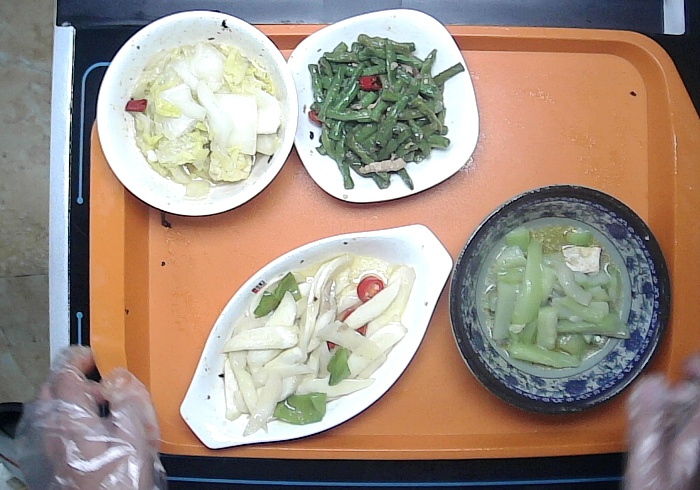ZNLD-Qing_Hua_Wan: (441, 173, 677, 420)
ZNLD-Si_Fang_Wan: (280, 1, 494, 221)
ZNLD-Tang_Wan: (93, 1, 308, 223)
ZNLD-Yu_Pan: (179, 217, 464, 459)
